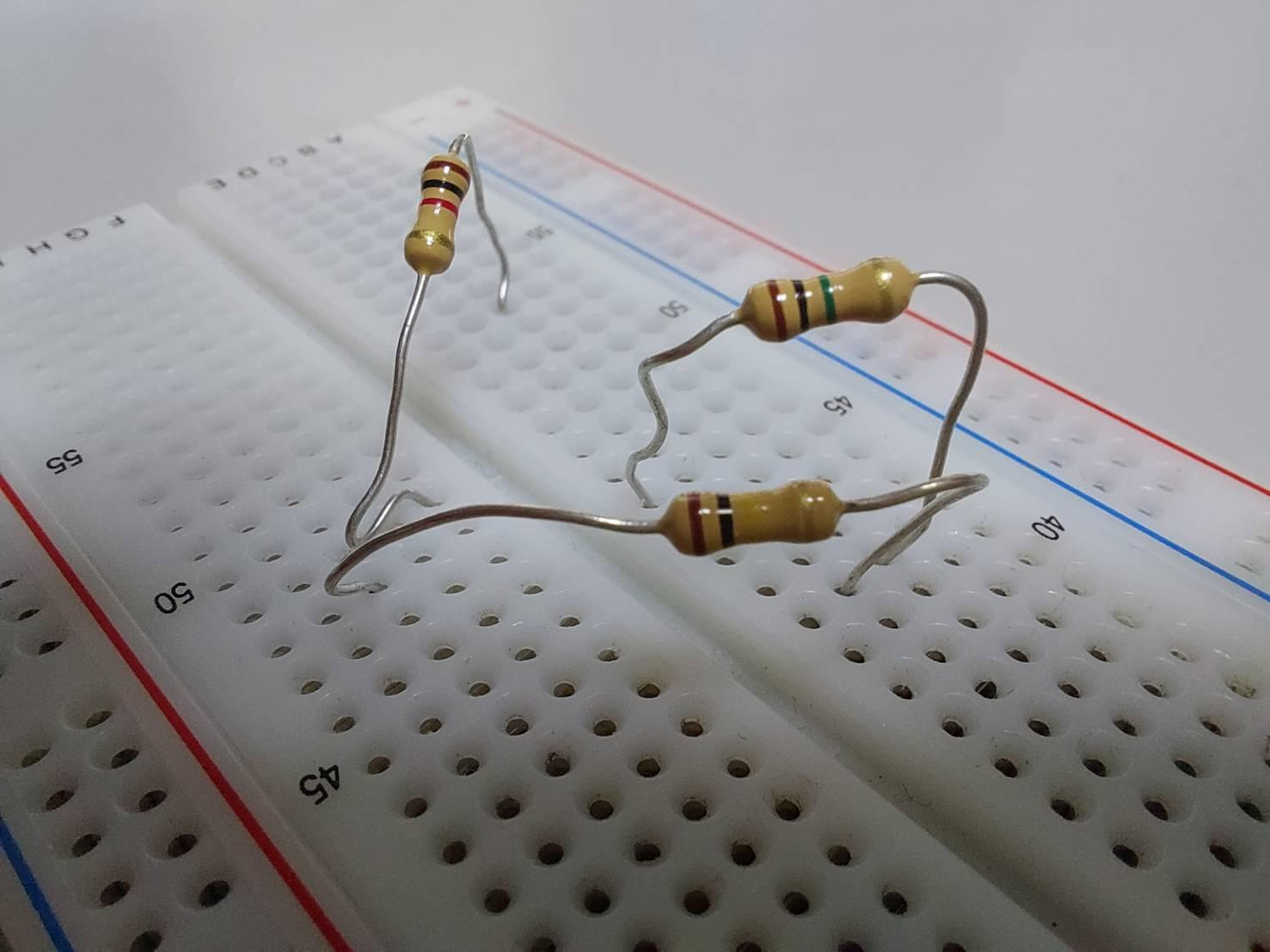resistor: (741, 253, 913, 341), (664, 478, 846, 553), (397, 147, 474, 271)
